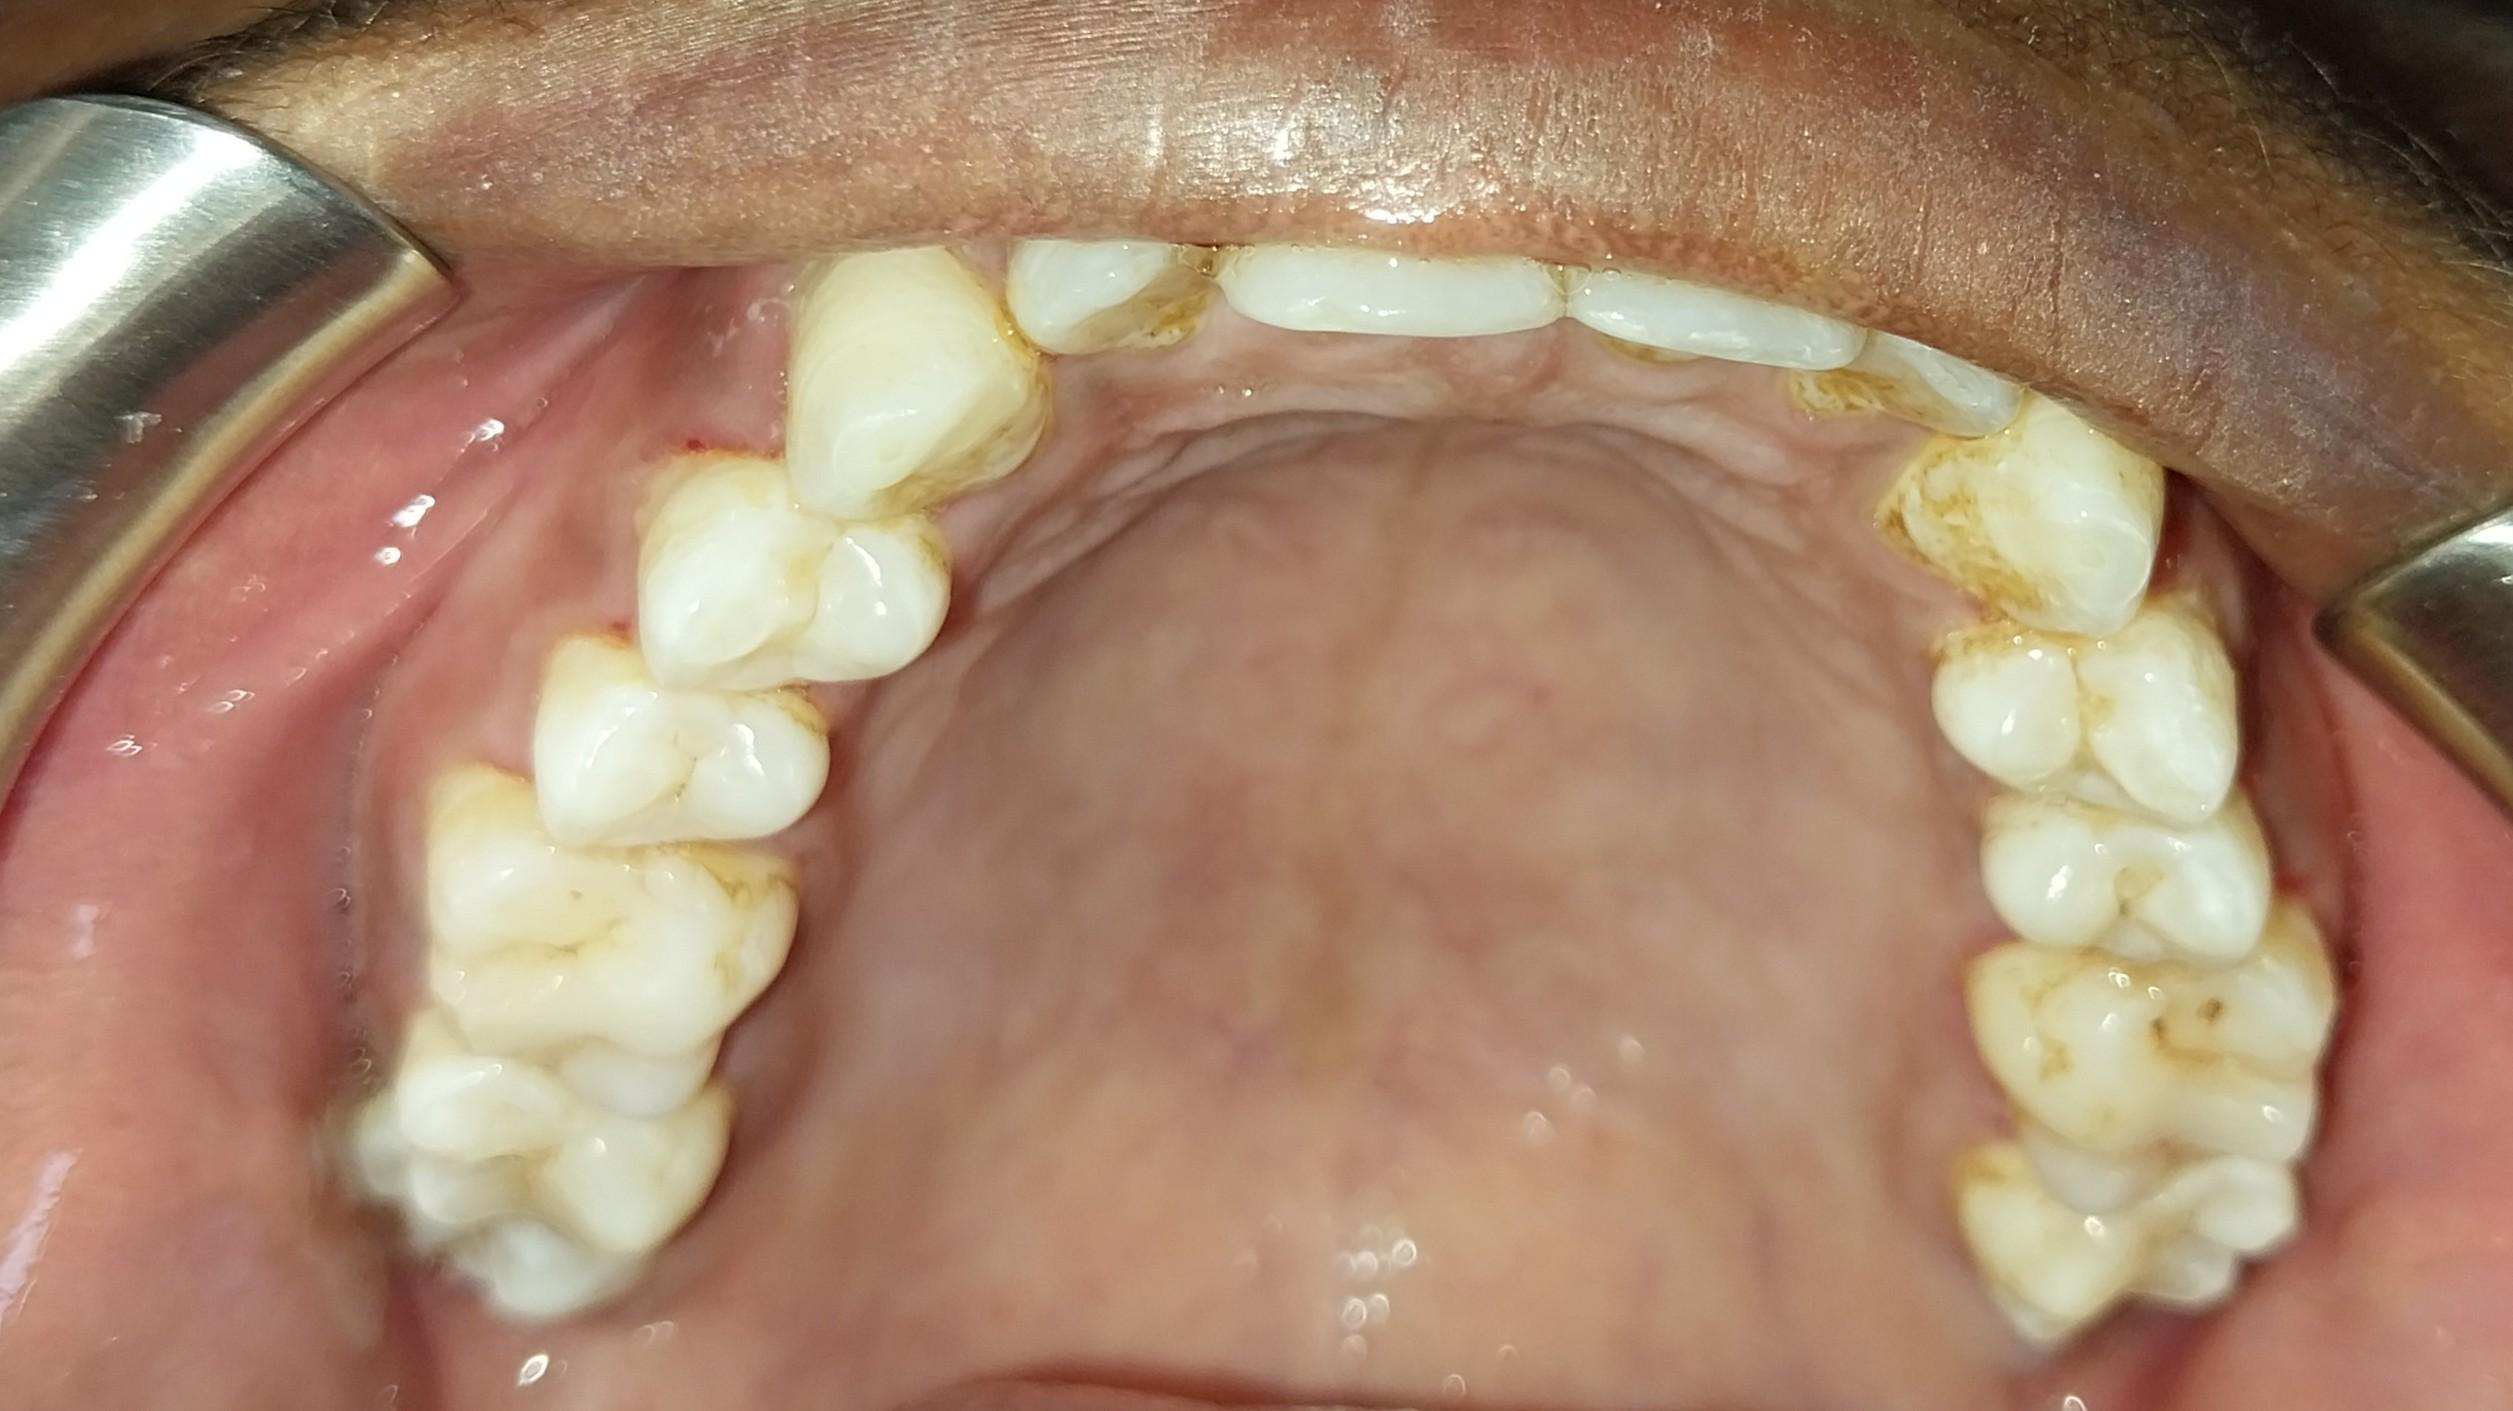D: (1994, 929, 2342, 1157)
